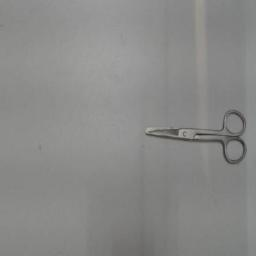Dressing Scissors: (138, 105, 250, 171)
